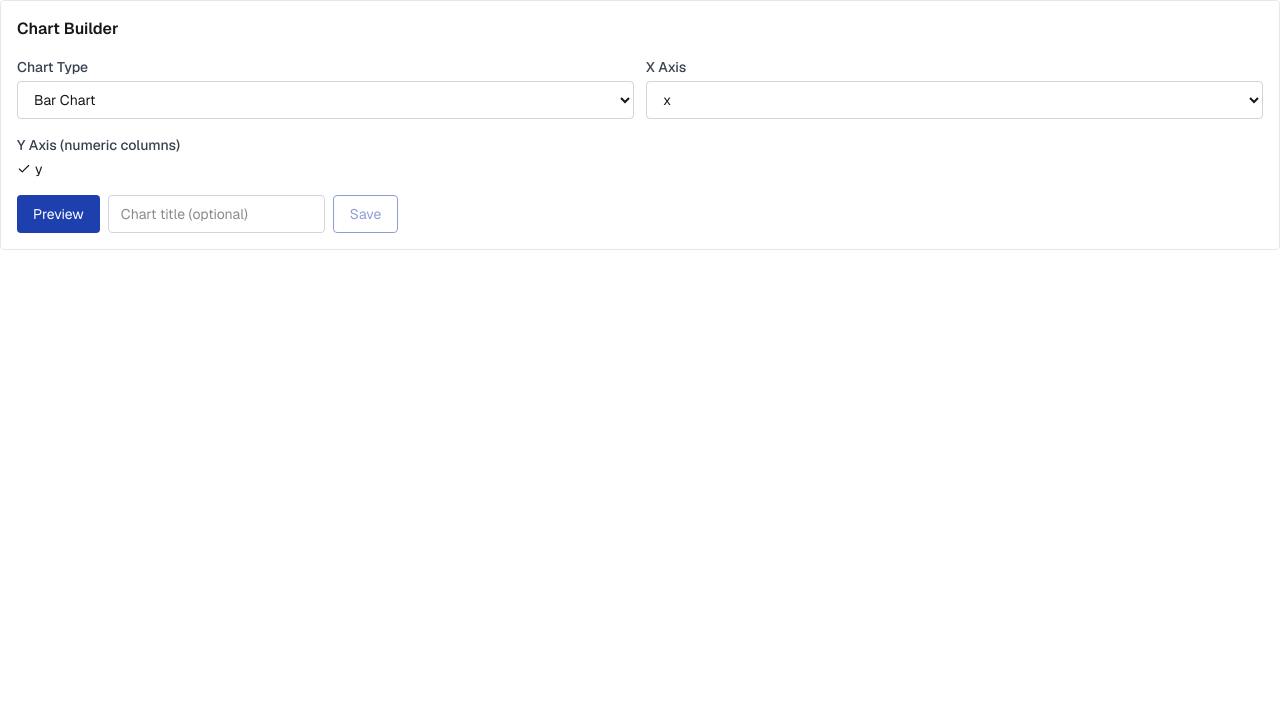
Scenario: ChartBuilder › shows embed code after saving
The image size is (1280, 720).
Click the button "Preview": [58, 214] box [17,195,100,233]
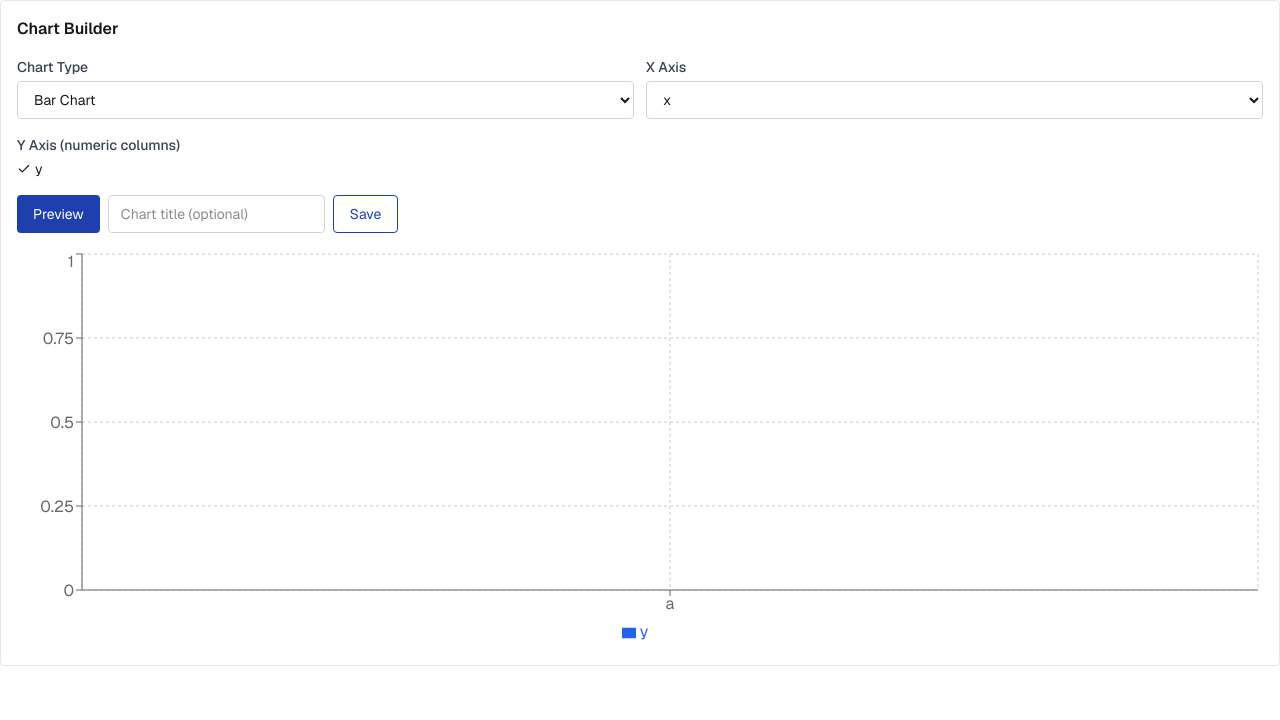
Now the button "Save" is enabled
Click the button "Save": [366, 214] box [333,195,398,233]
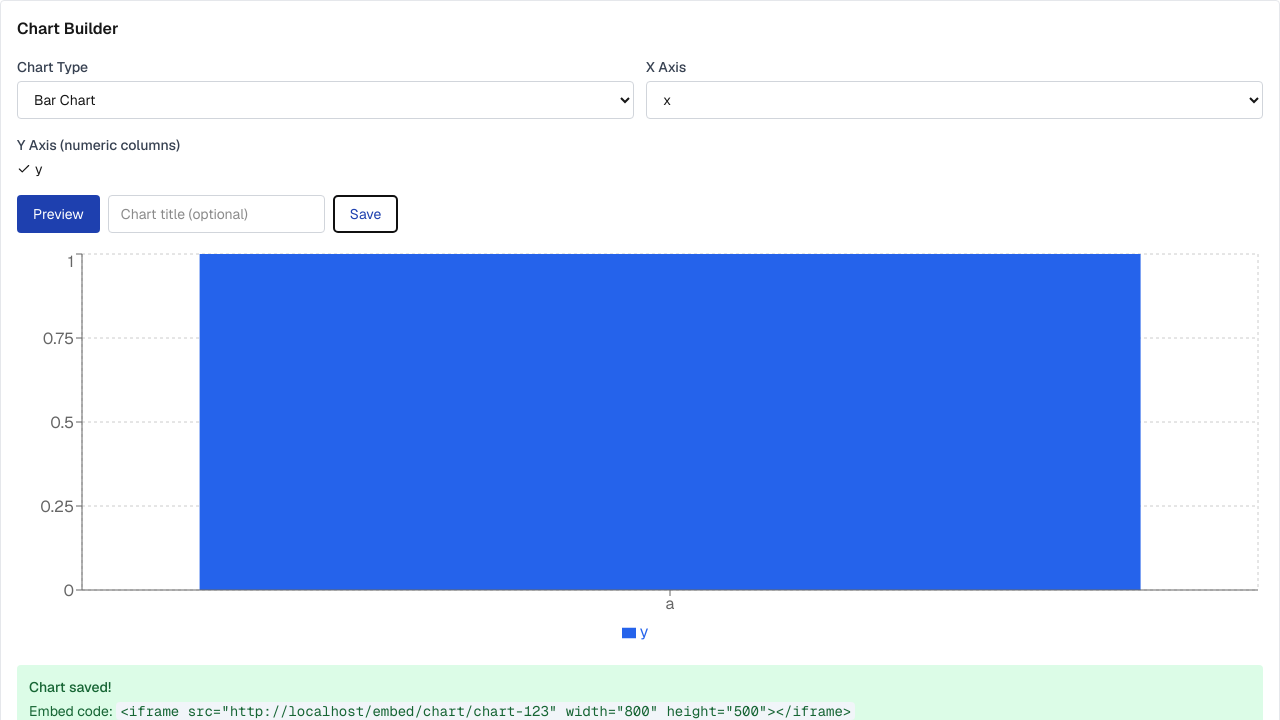
Now the text "Chart saved!" is shown, box [29,678,111,696]
